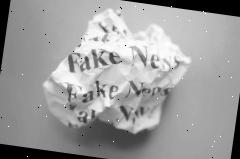paper: (36, 0, 195, 142)
